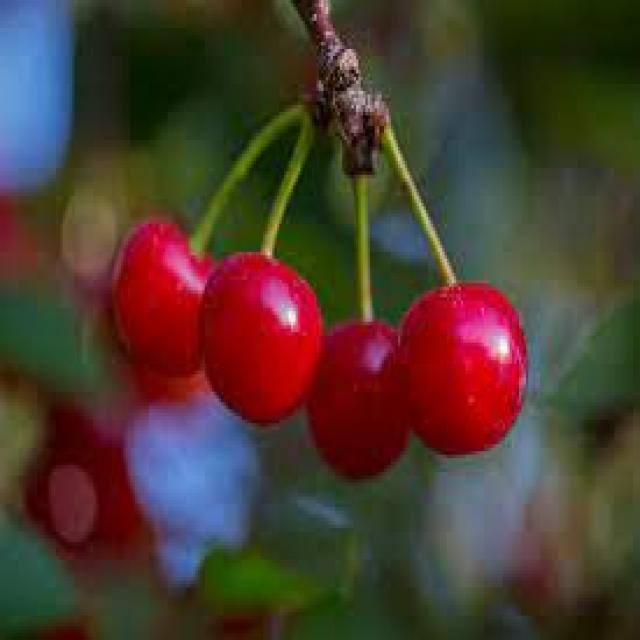cherry: (314, 98, 535, 479), (114, 84, 319, 434)
